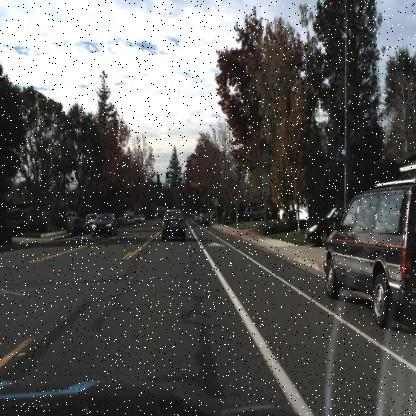car: (324, 176, 416, 331), (304, 202, 346, 242), (160, 206, 188, 243), (90, 212, 119, 240), (242, 202, 272, 226), (86, 211, 102, 231), (198, 210, 212, 226), (116, 213, 130, 228)
trafficLight-Green: (183, 170, 189, 182), (165, 170, 170, 184), (165, 170, 170, 182), (184, 170, 188, 182), (210, 191, 214, 203)
